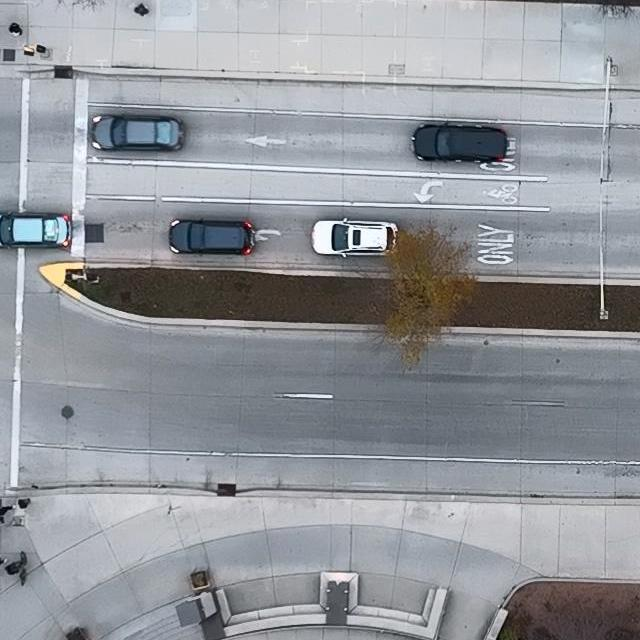car: (410, 121, 509, 164), (310, 215, 401, 259), (90, 112, 186, 149), (170, 217, 257, 256), (0, 208, 74, 248)
